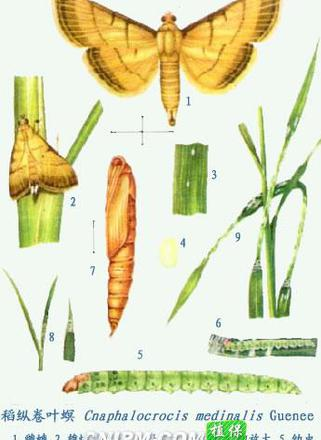pest: (57, 1, 273, 98), (105, 155, 138, 336), (11, 115, 77, 198), (60, 370, 300, 392), (223, 339, 315, 350)
